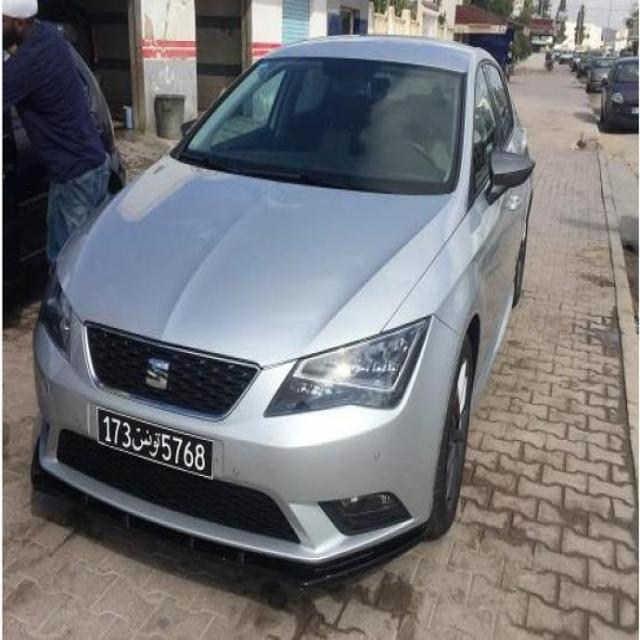LP: (93, 402, 217, 483)
